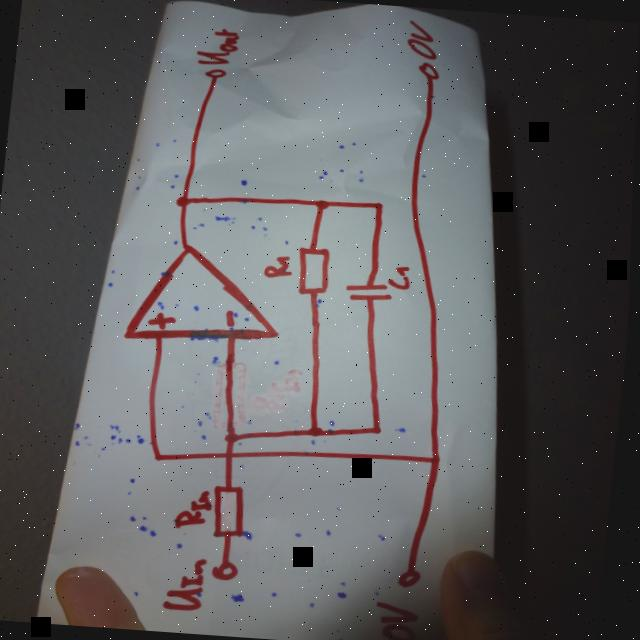capacitor: (343, 276, 395, 306)
crossover: (223, 448, 240, 460)
junction: (174, 192, 193, 208), (308, 424, 328, 438), (313, 198, 332, 210), (225, 430, 243, 442), (370, 424, 386, 435), (429, 454, 445, 465), (373, 200, 386, 211), (154, 451, 166, 462)
resistor: (210, 483, 252, 539), (294, 244, 335, 296)
terminal: (213, 558, 243, 582), (398, 566, 427, 590), (414, 60, 442, 80), (202, 66, 229, 80)
text: (165, 554, 214, 612), (373, 598, 430, 640), (193, 24, 243, 68), (176, 487, 217, 531), (404, 18, 440, 61), (262, 252, 296, 278), (386, 264, 415, 290)
